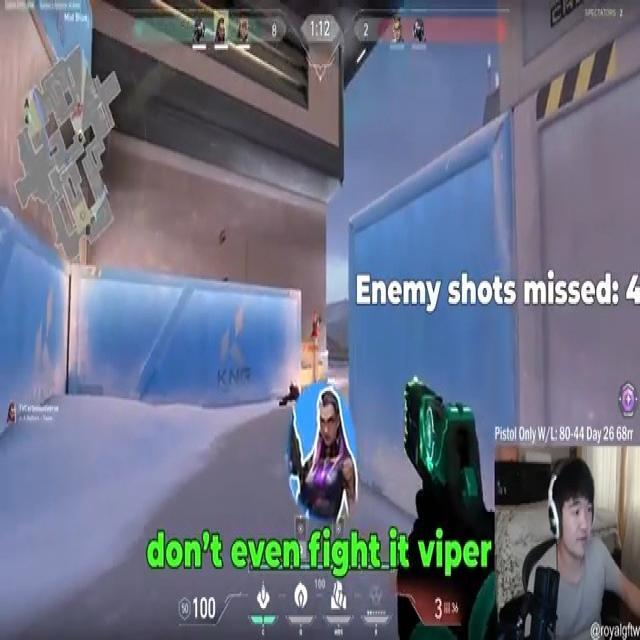enemy: (310, 309, 322, 338)
